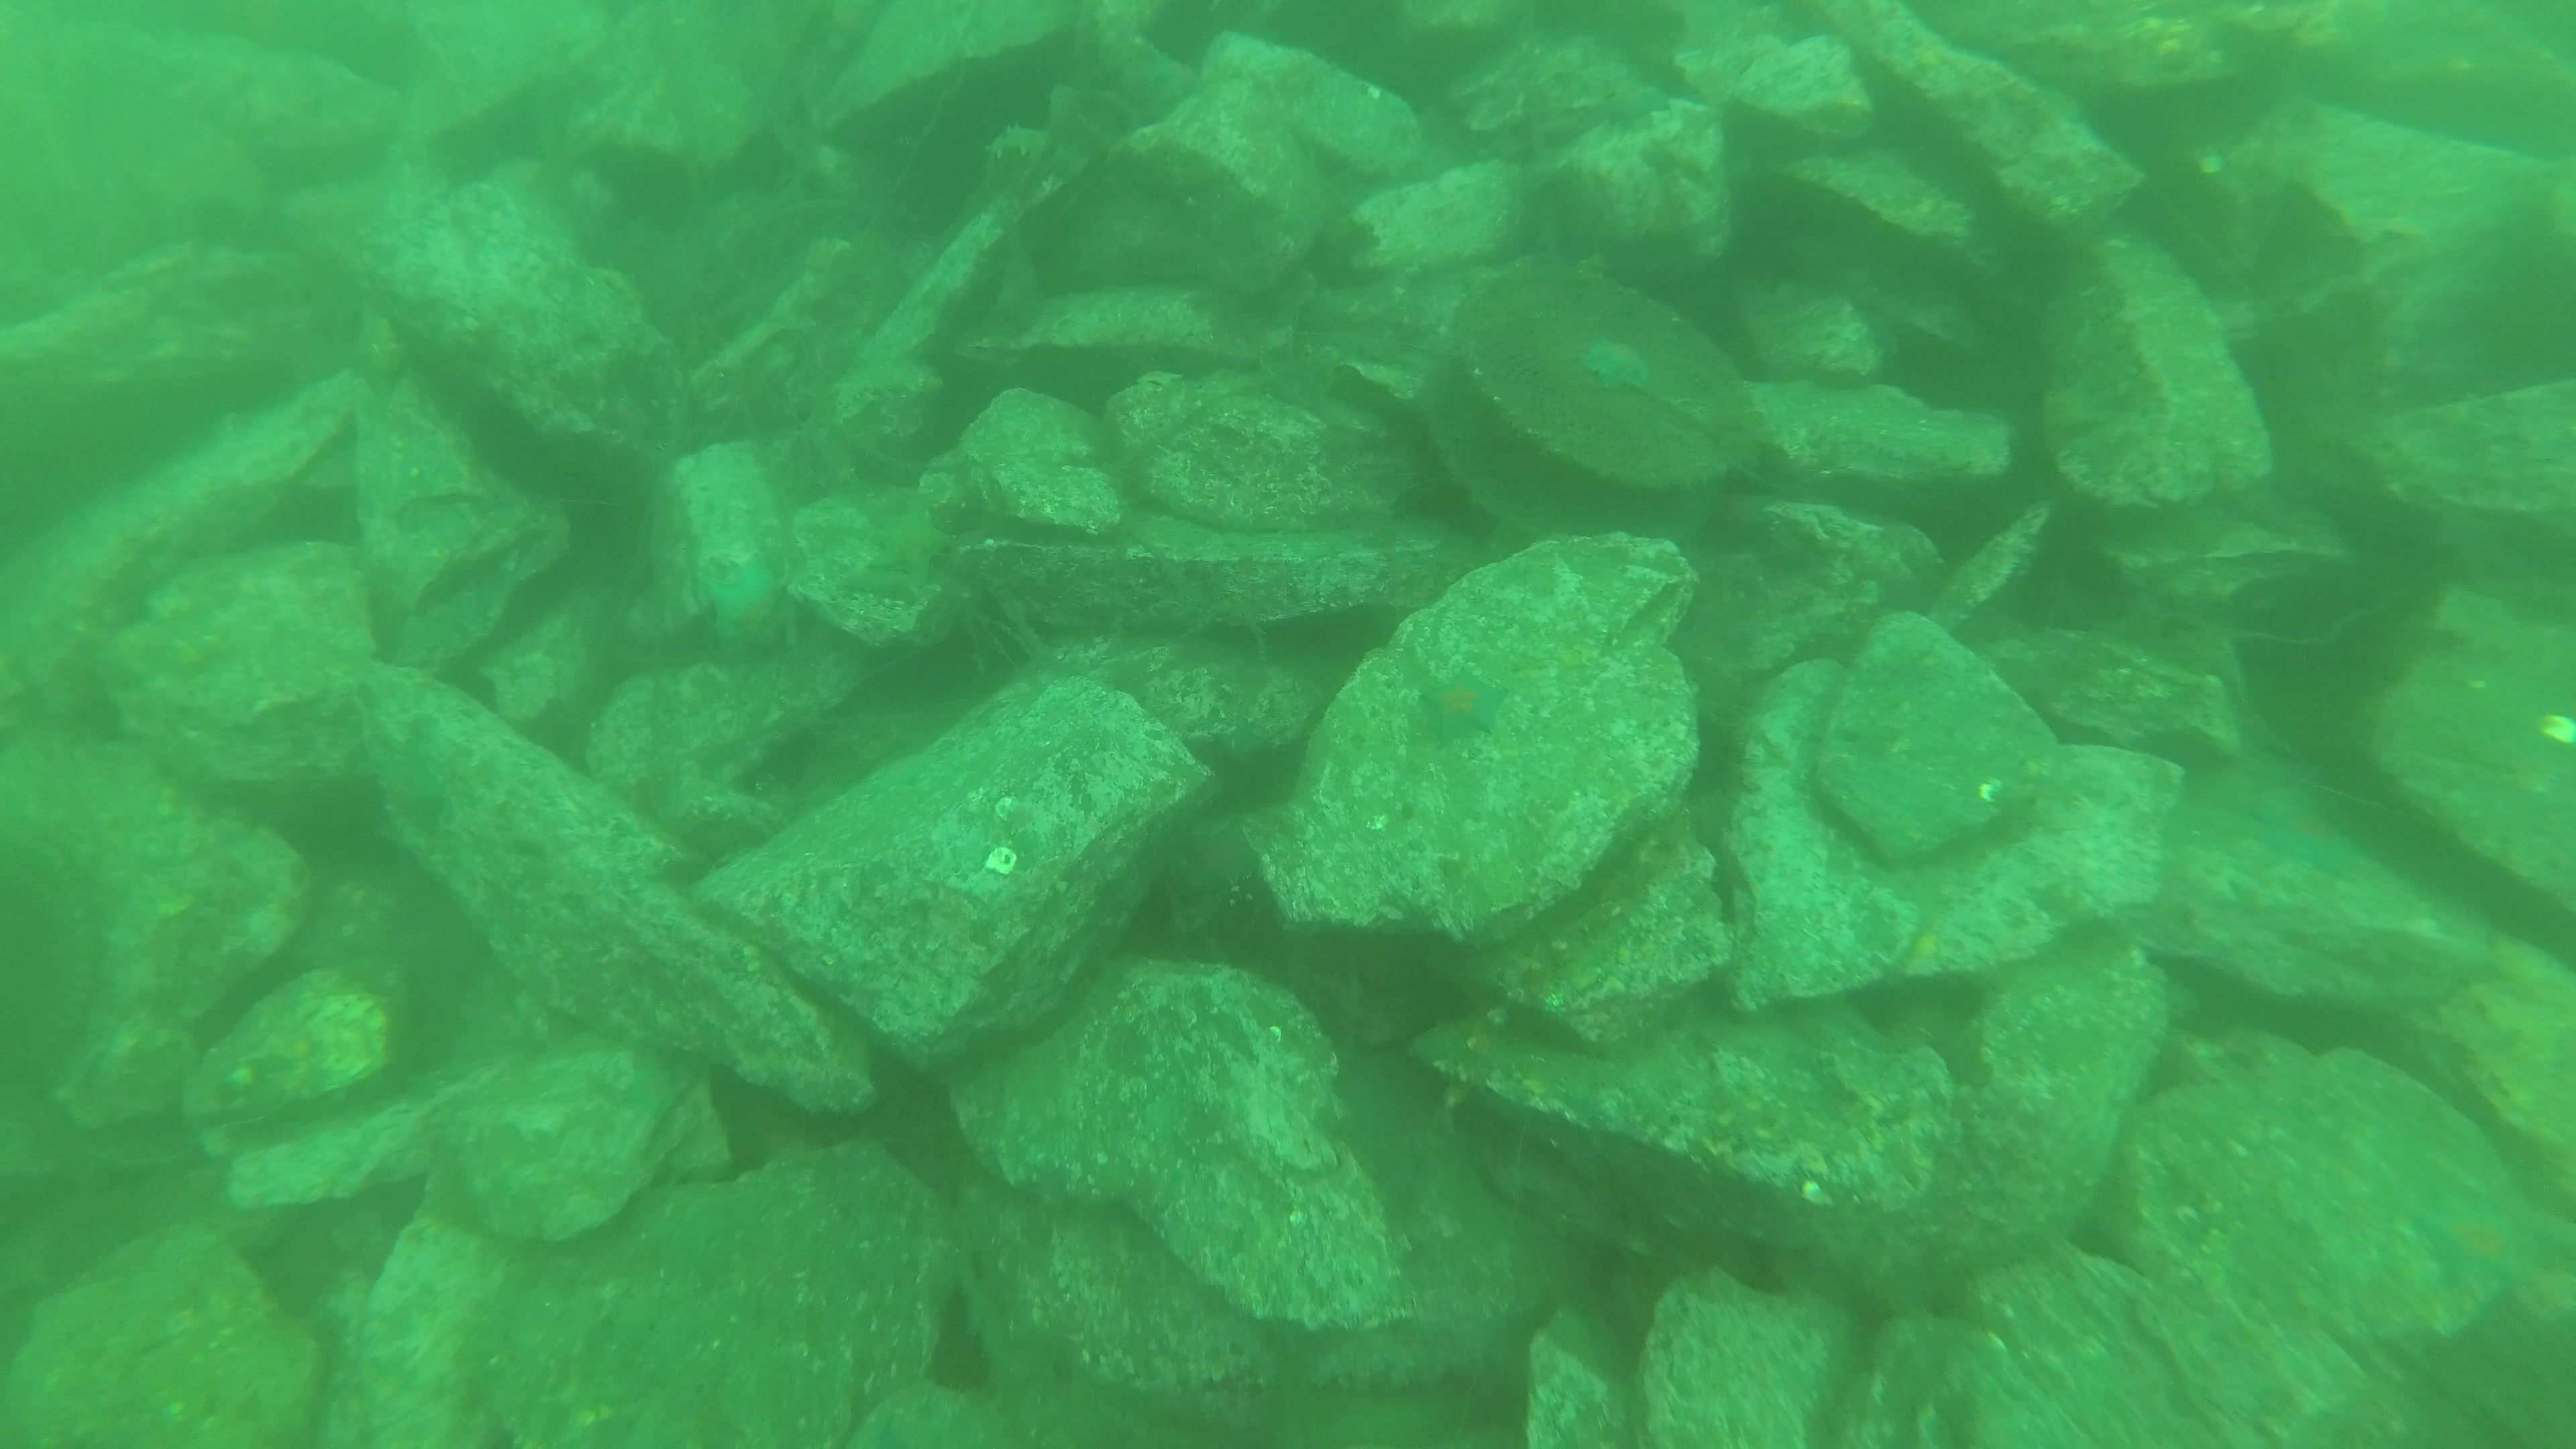starfish: (2411, 1192, 2544, 1299), (2250, 809, 2381, 886), (860, 494, 955, 580), (1421, 665, 1511, 743), (347, 306, 412, 405)
